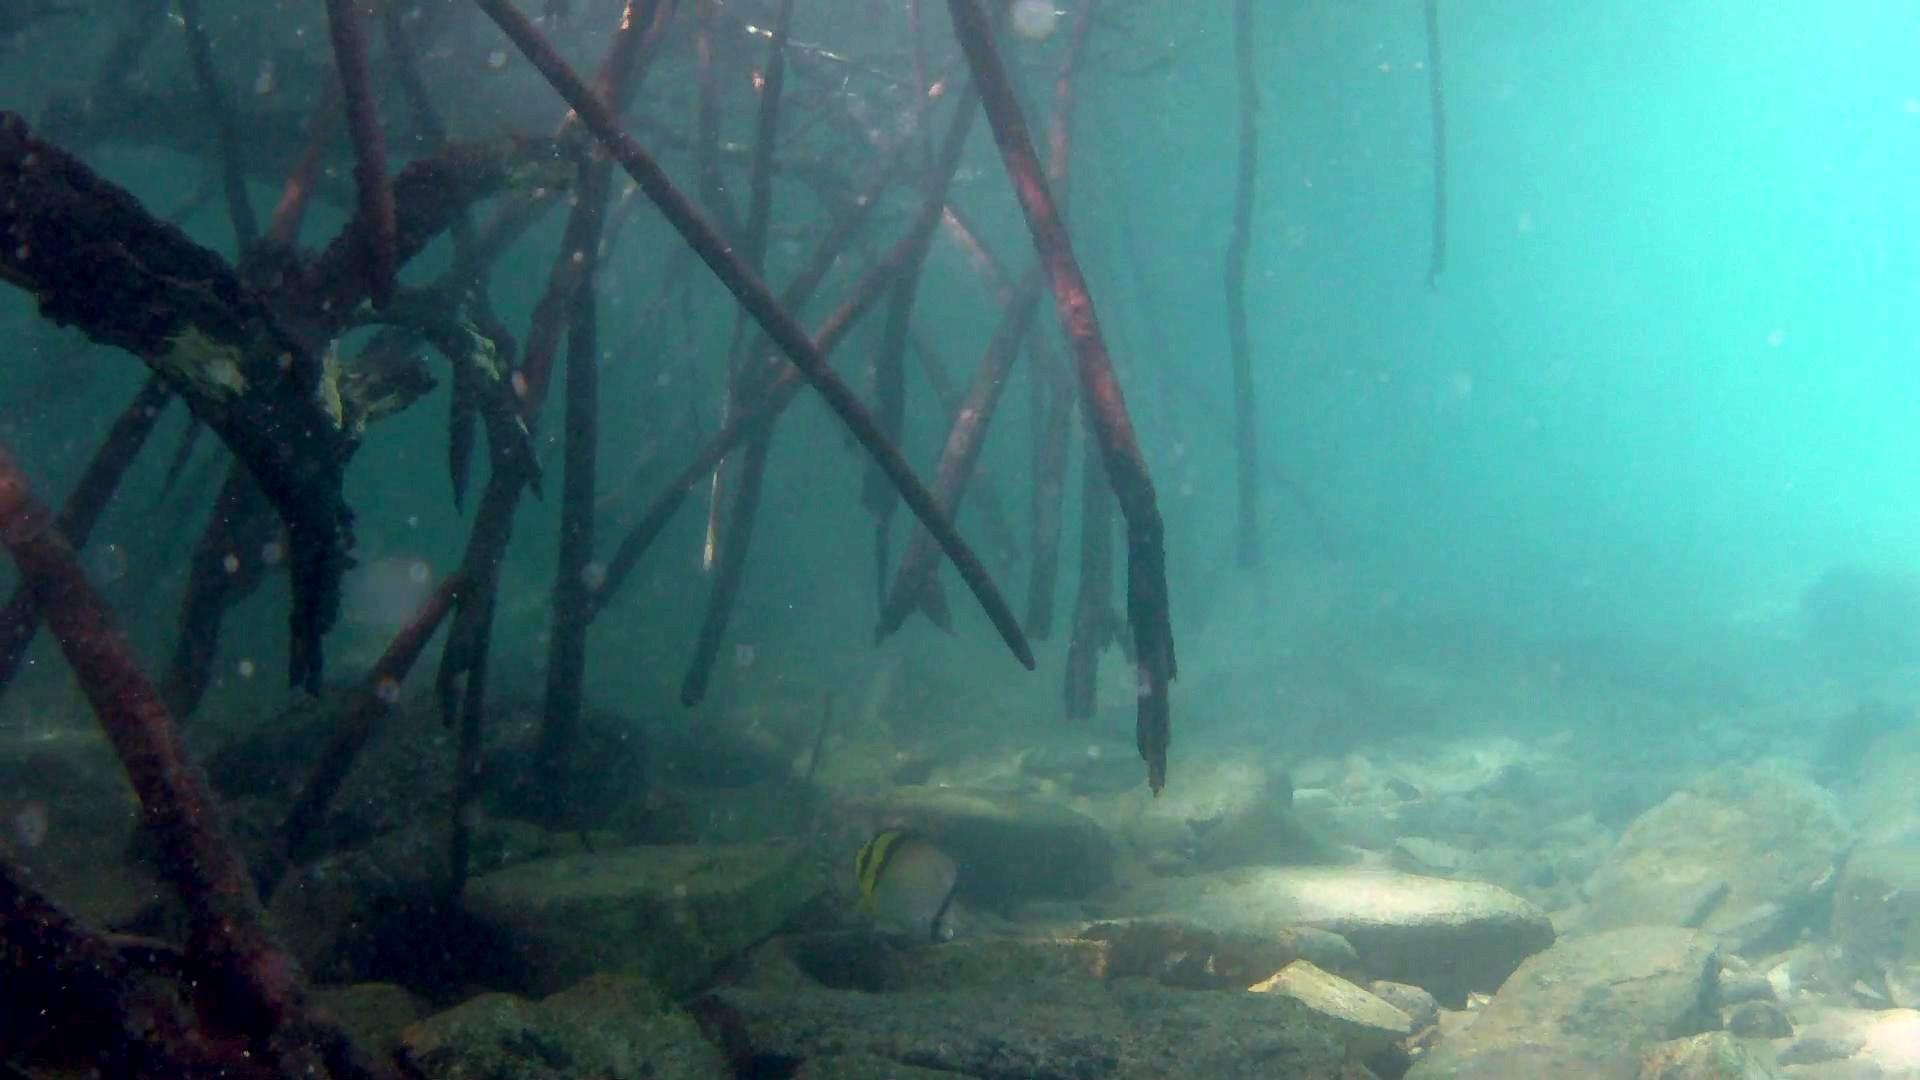chaetodon vagabundus: (851, 825, 963, 948)
